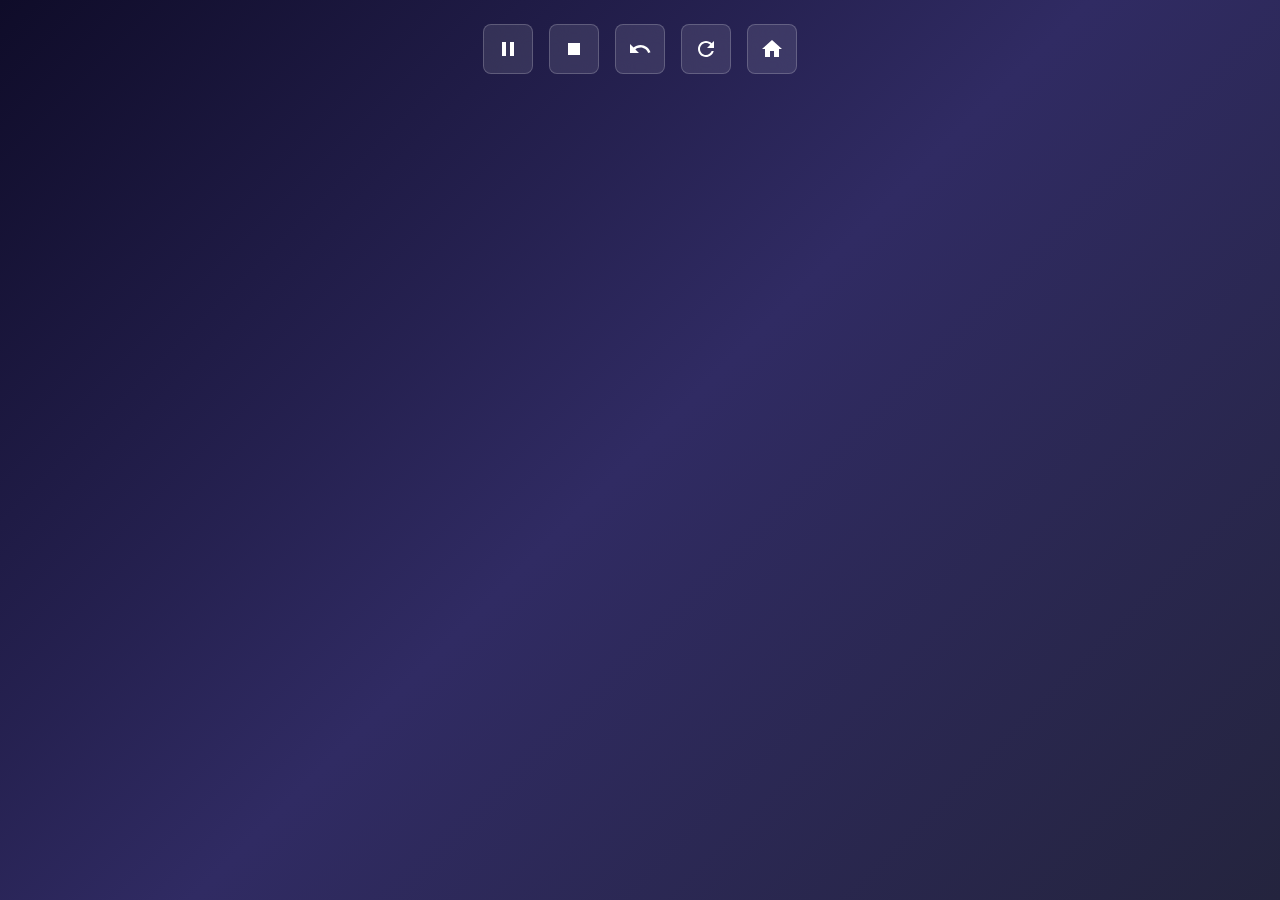
Test: GameControls Component › should show exit confirmation dialog when exit is clicked
Click the button titled "Exit to Menu" at (772, 49), box [747, 24, 797, 74]
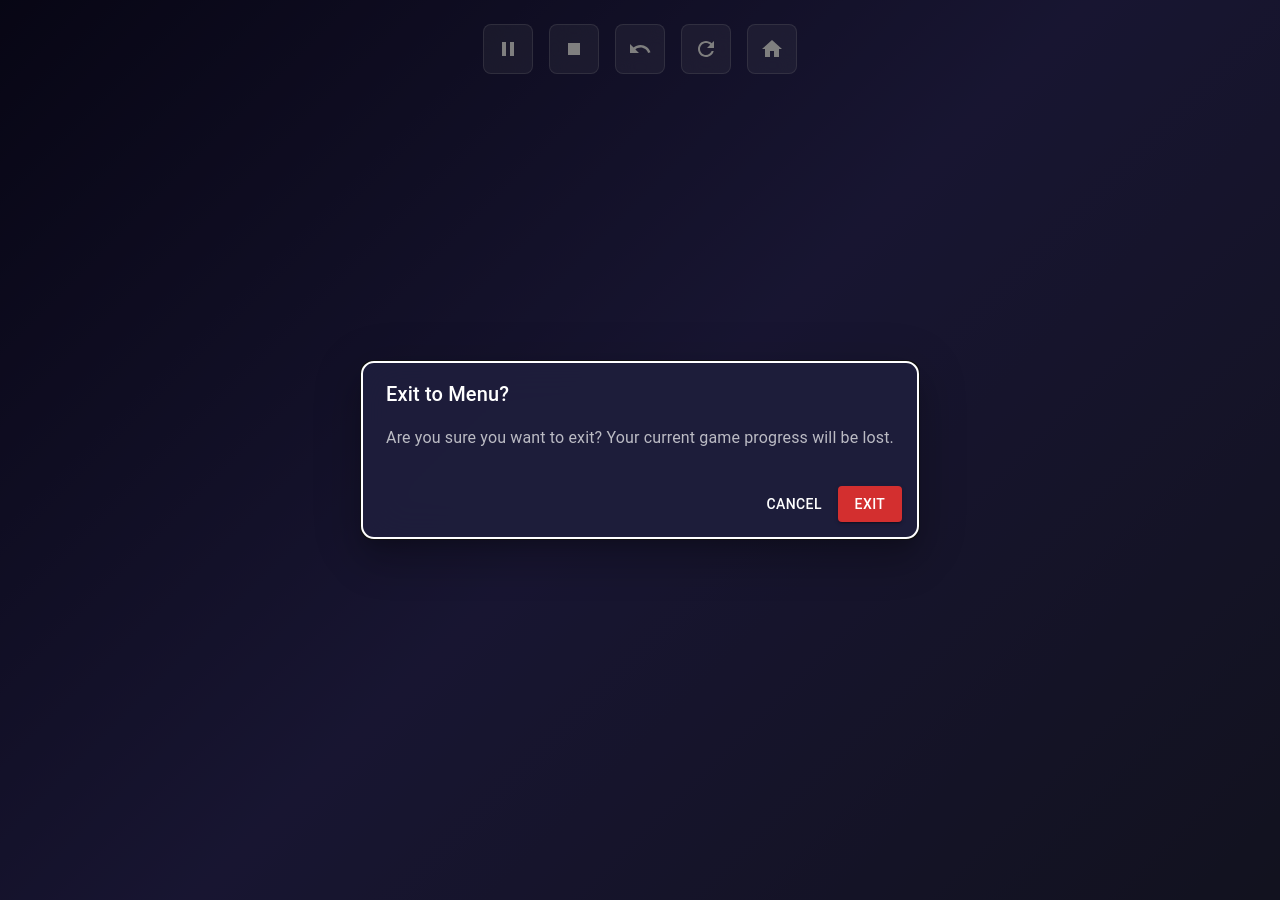
Result: the heading "Exit to Menu?" is shown at [386, 382, 509, 406]
